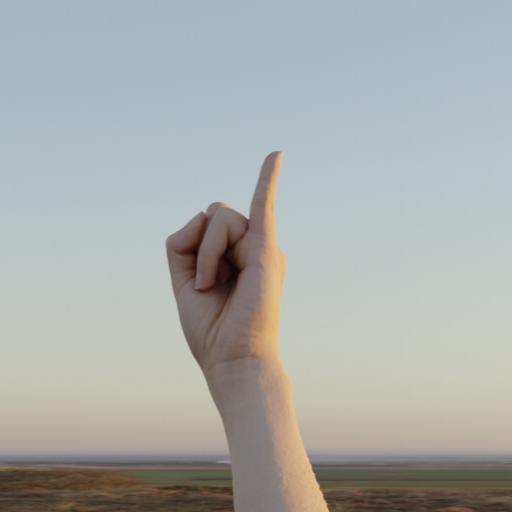I: (144, 137, 322, 380)
